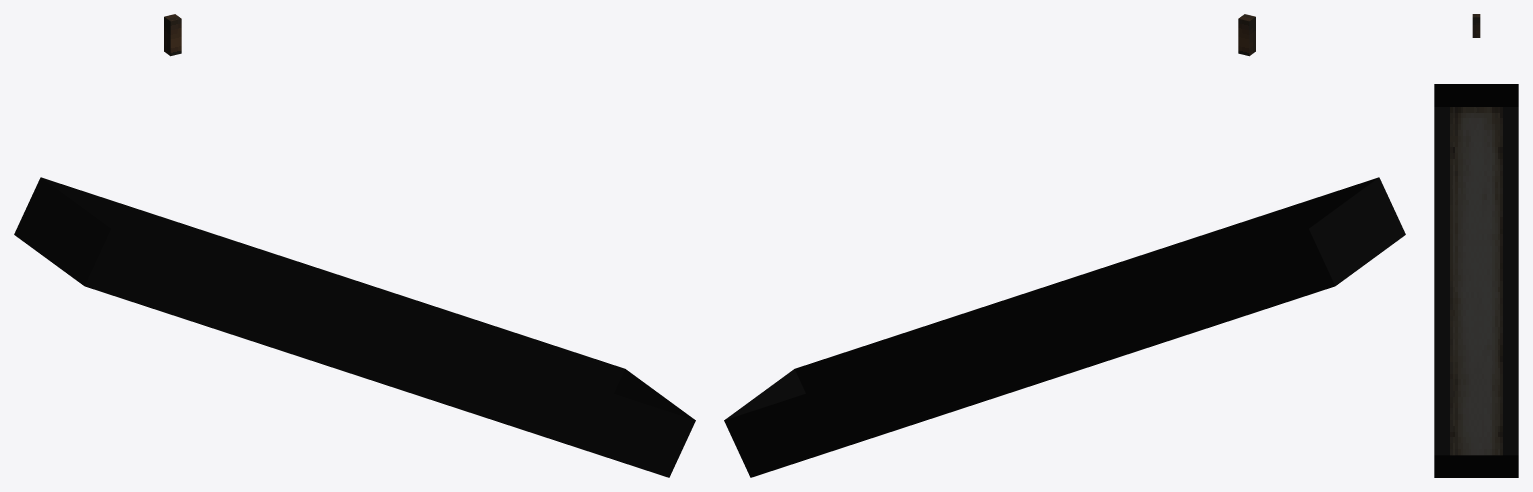
File: prop_light_fixture-1.glb
3 views of the same model, side by side, from view 1: azimuth 30°, elevation 25°; view 2: azimuth 150°, elevation 25°; view 3: azimuth 270°, elevation 25° (orthographic). The views are drawn at different scales.
Visible parts, largest first — view 1: prop_light_fixture-1; view 2: prop_light_fixture-1; view 3: prop_light_fixture-1.
Boxes of the visible parts, x1,y1,x2,y2 form: prop_light_fixture-1: (14, 14, 695, 477); prop_light_fixture-1: (724, 14, 1405, 477); prop_light_fixture-1: (1434, 14, 1518, 477).
Bounding box in the file's own units: 1.1 × 0.9412 × 0.22.
2 materials, 2 textured.
